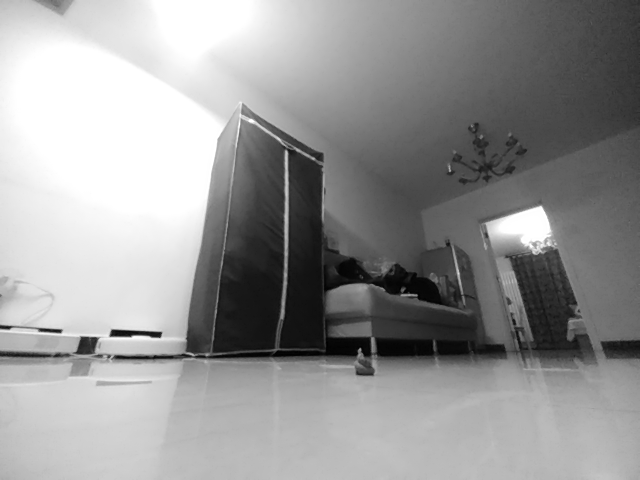curtain: (507, 247, 581, 347)
pet feces: (353, 349, 376, 379)
